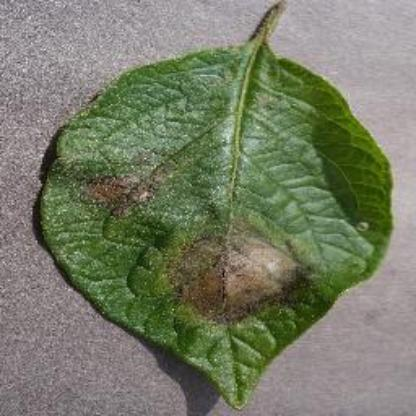Late-Blight: (31, 6, 403, 410)
